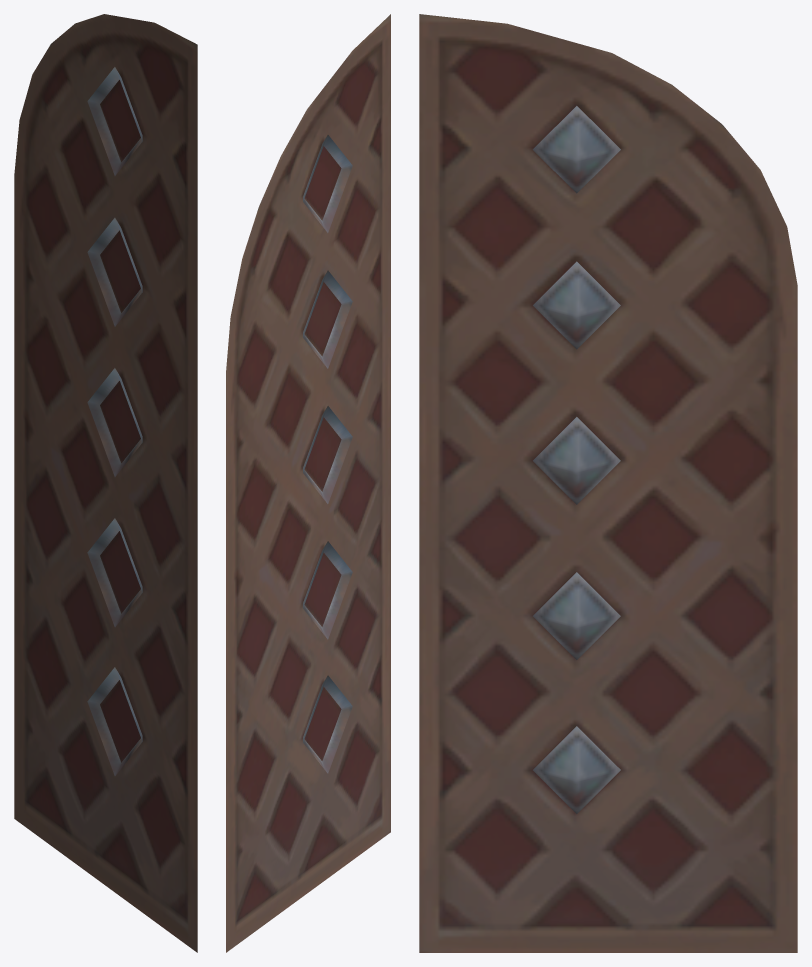
Rendered from PuertaDer.obj.
3 views of the same model, side by side, from view 1: azimuth 30°, elevation 25°; view 2: azimuth 150°, elevation 25°; view 3: azimuth 270°, elevation 25° (orthographic). The views are drawn at different scales.
Visible parts, largest first — view 1: pasted__polySurface184 group; view 2: pasted__polySurface184 group; view 3: pasted__polySurface184 group.
Boxes of the visible parts, x1=… form: pasted__polySurface184 group: x1=14, y1=14, x2=197, y2=952; pasted__polySurface184 group: x1=226, y1=14, x2=390, y2=952; pasted__polySurface184 group: x1=419, y1=14, x2=797, y2=952.
Bounding box in the file's own units: 0.14 × 4.28 × 1.56.
Materials: 1 (1 with a texture image).
